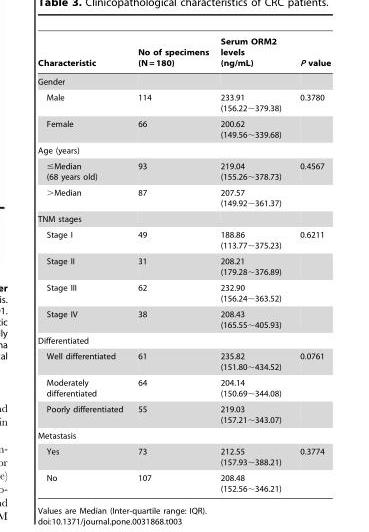table: (37, 36, 330, 493)
table column: (37, 36, 129, 493), (129, 36, 214, 493), (214, 36, 289, 493), (289, 36, 330, 493)
table column header: (37, 36, 330, 72)
table projected row header: (37, 72, 330, 89), (37, 332, 330, 348), (37, 427, 330, 443), (37, 142, 330, 157), (37, 211, 330, 226)
table row: (37, 36, 330, 72), (37, 89, 330, 116), (37, 157, 330, 184), (37, 184, 330, 211), (37, 226, 330, 253), (37, 279, 330, 306), (37, 374, 330, 401), (37, 116, 330, 142), (37, 253, 330, 279), (37, 306, 330, 332), (37, 348, 330, 374), (37, 401, 330, 427), (37, 443, 330, 469), (37, 469, 330, 493), (37, 72, 330, 89), (37, 332, 330, 348), (37, 427, 330, 443), (37, 142, 330, 157), (37, 211, 330, 226)
